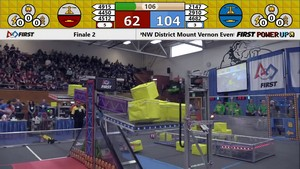cube: (127, 100, 162, 120), (130, 84, 159, 100), (166, 104, 188, 121), (128, 139, 143, 154), (67, 83, 83, 97), (191, 145, 209, 155), (214, 121, 227, 133), (175, 139, 188, 151)
